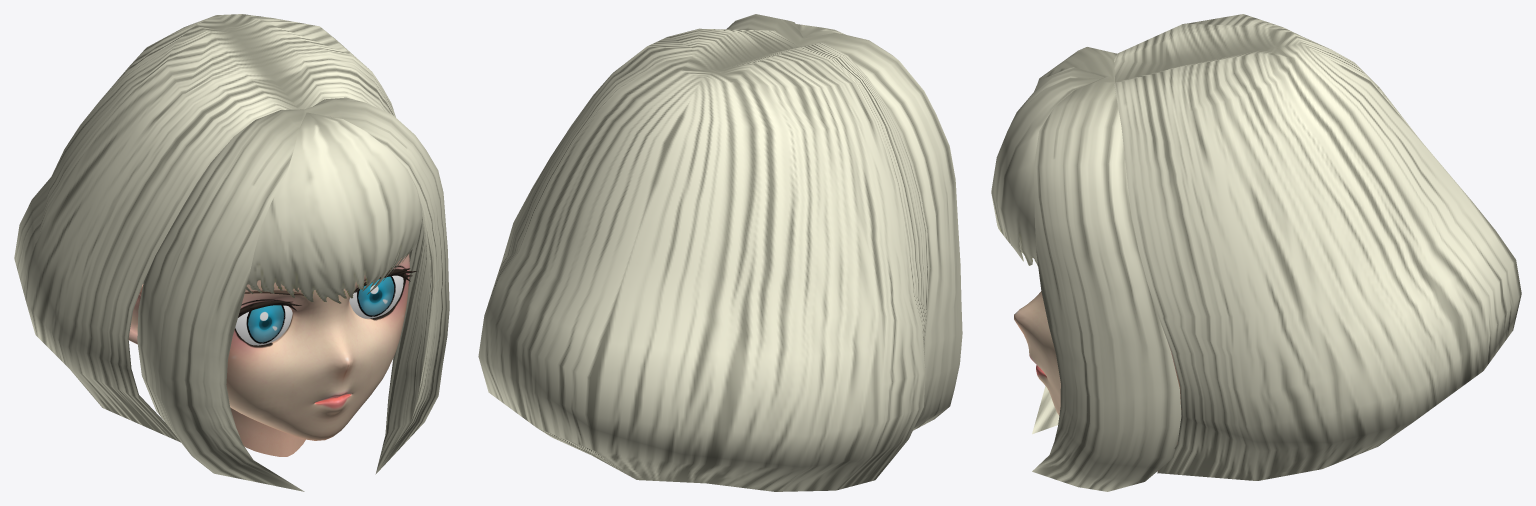
Rendered from Avatar_Fairy_V2.fbx.
3 renders of one model, left to right at view 1: azimuth 30°, elevation 25°; view 2: azimuth 150°, elevation 25°; view 3: azimuth 270°, elevation 25°, orthographic. The views are drawn at different scales.
Parts seen in each view (by area): view 1: Hair, Head, Eye_Right, Eye_Left; view 2: Hair; view 3: Hair, Head.
Boxes of the visible parts, left/top/right/bottom form: Hair: left=14, top=14, right=449, bottom=491; Head: left=128, top=253, right=416, bottom=456; Eye_Right: left=235, top=305, right=292, bottom=345; Eye_Left: left=349, top=275, right=403, bottom=318; Hair: left=478, top=14, right=962, bottom=491; Hair: left=991, top=14, right=1521, bottom=491; Head: left=1014, top=291, right=1181, bottom=471.
Bounding box in the file's own units: 32.6 × 34.94 × 39.4.
2 materials, 2 textured.
